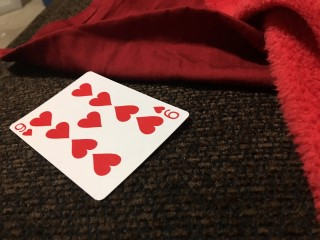NineOfHearts: (9, 71, 189, 200)
